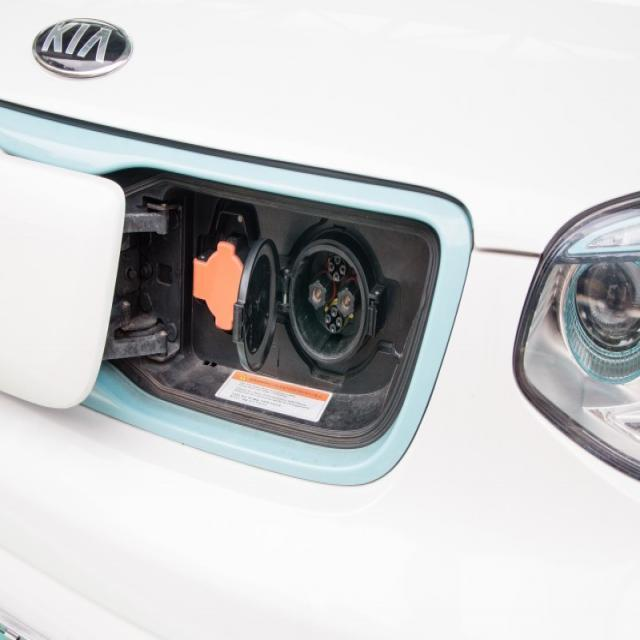CHAdeMO: (279, 234, 383, 385)
